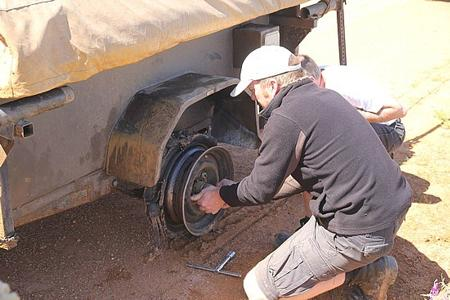person: (186, 41, 414, 300)
